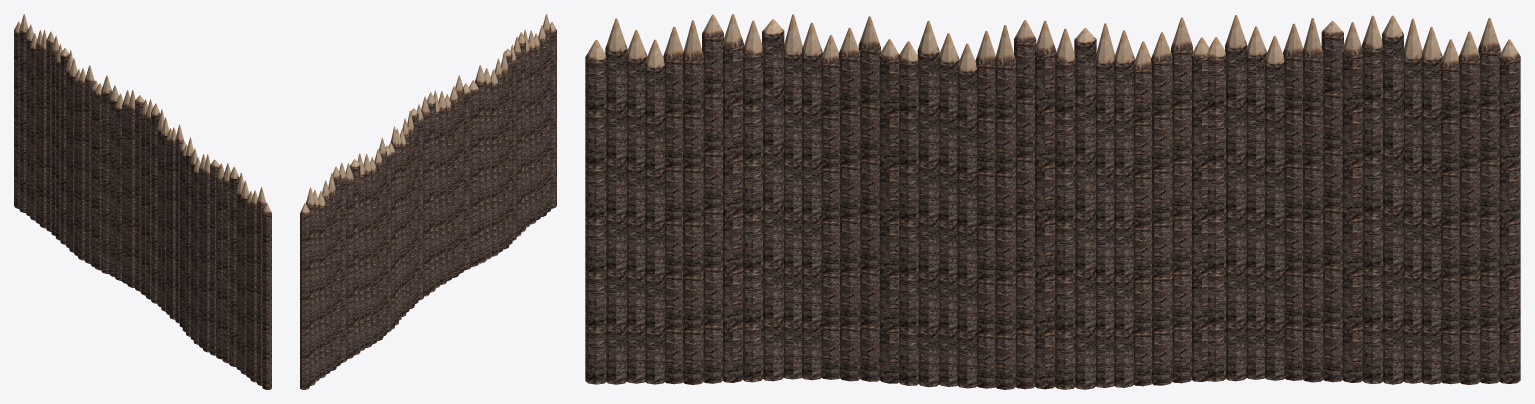
The model's file is WoodenWall.obj.
The picture shows the model from 3 angles, left to right: view 1: azimuth 30°, elevation 25°; view 2: azimuth 150°, elevation 25°; view 3: azimuth 270°, elevation 25°; orthographic projection. The views are drawn at different scales.
Parts seen in each view (by area): view 1: Plane; view 2: Plane; view 3: Plane.
Part boxes in pixels (x1,y1,x2,y2): Plane: (14, 14, 271, 389); Plane: (300, 14, 556, 389); Plane: (585, 14, 1520, 389).
Bounding box in the file's own units: 0.053 × 0.5059 × 1.17.
1 material, 1 textured.
